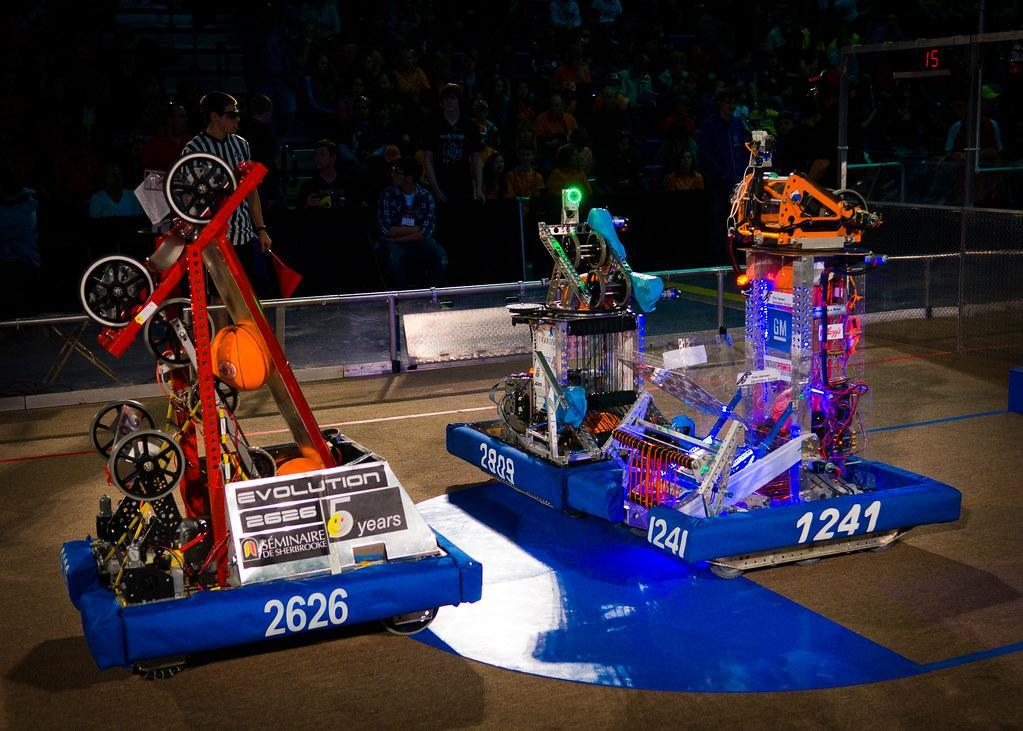robot: (45, 123, 492, 684), (567, 140, 972, 579), (439, 172, 712, 532)
